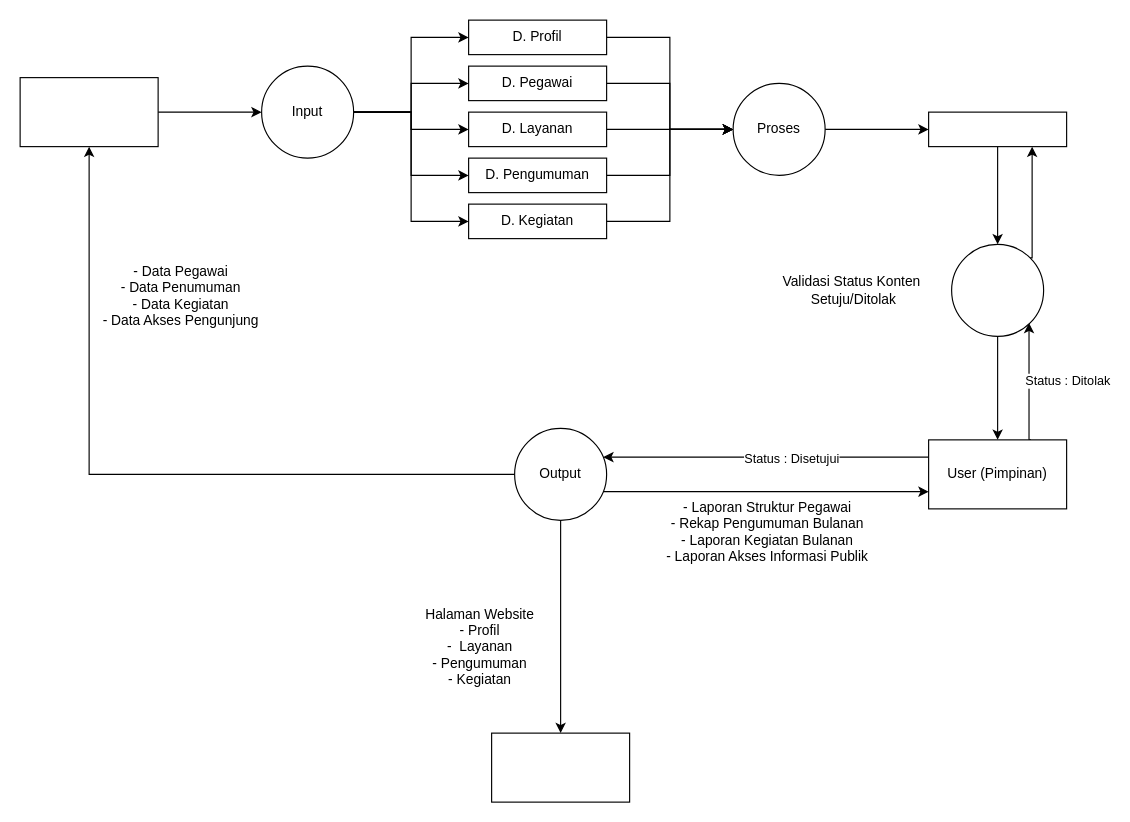
This 1130x822 diagram has some shape labels left out. Here are the shapes that lost their labels. From the top down, the centre of each, then its label:
(88,111): User (Admin)
(997,129): Draf Konten
(997,289): Validasi
(560,767): Masyarakat
